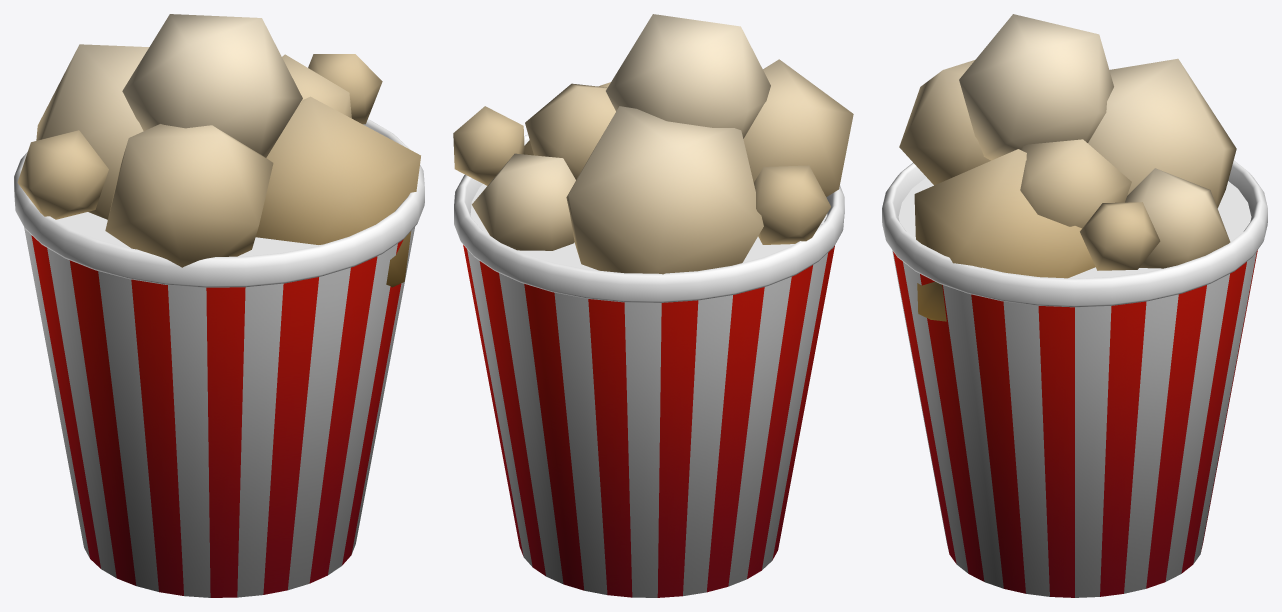
Rendered from cinema_popcorn.FBX.
3 renders of one model, left to right at view 1: azimuth 30°, elevation 25°; view 2: azimuth 150°, elevation 25°; view 3: azimuth 270°, elevation 25°, orthographic. The views are drawn at different scales.
Parts seen in each view (by area): view 1: cinema_popcorn; view 2: cinema_popcorn; view 3: cinema_popcorn.
Part boxes in pixels (box(x1,y1,x2,y2)): cinema_popcorn: box(14, 14, 424, 597); cinema_popcorn: box(453, 14, 853, 597); cinema_popcorn: box(882, 14, 1267, 597).
Size of the model in its own units: 698 by 965 by 673.
Materials: 1 (1 with a texture image).
